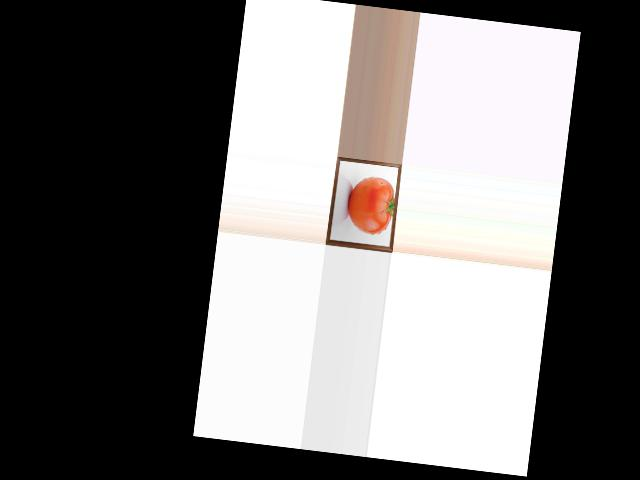tomato: (344, 174, 397, 236)
